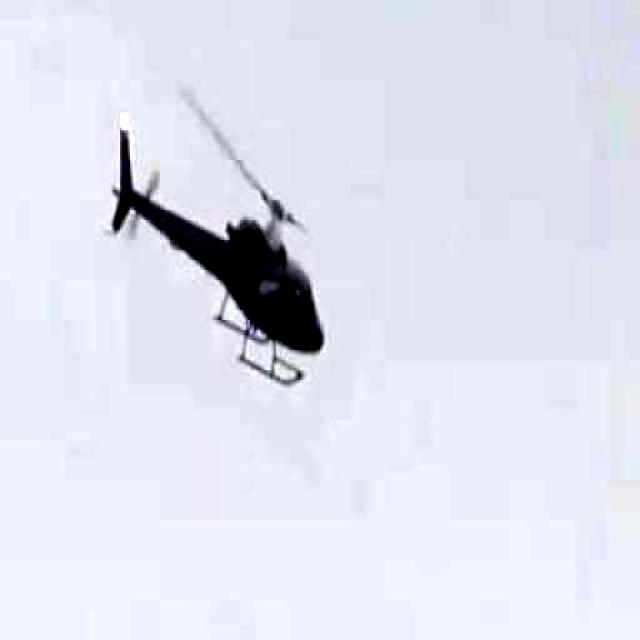drone: (99, 105, 335, 409)
